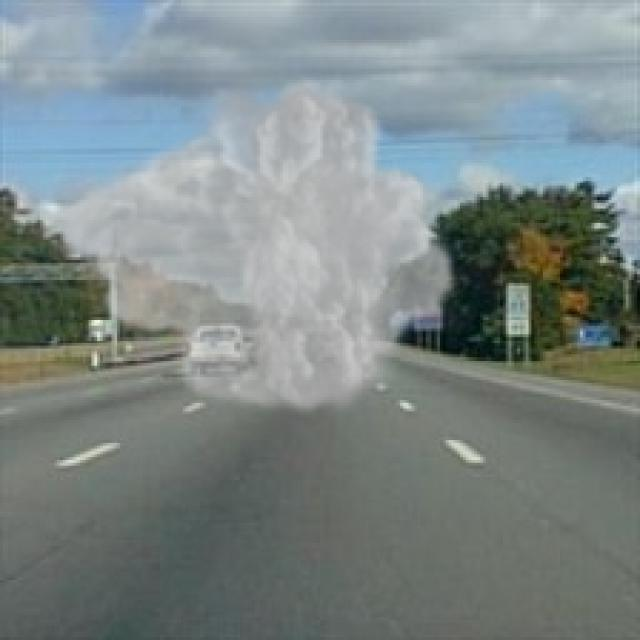smoke: (51, 77, 460, 423)
